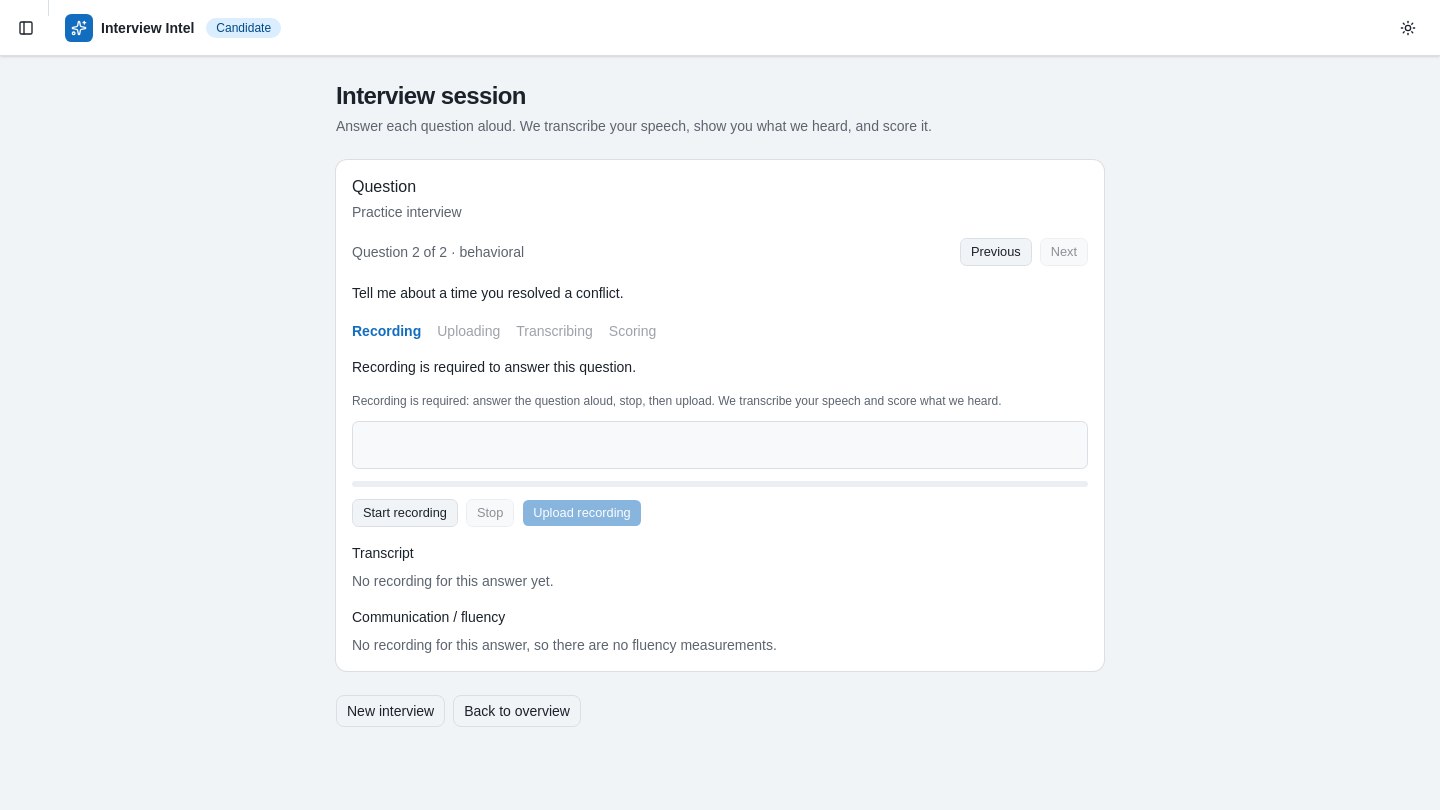
Scenario: a scored spoken answer shows What we heard, word timings, both fluency arms, and no text box
Check: the text "Tell me about a time you resolved a conflict." is shown, box x1=352 y1=285 x2=624 y2=301
Click the button with test id "prev-question" at (996, 252), box x1=960 y1=238 x2=1032 y2=266
(page scrolled)
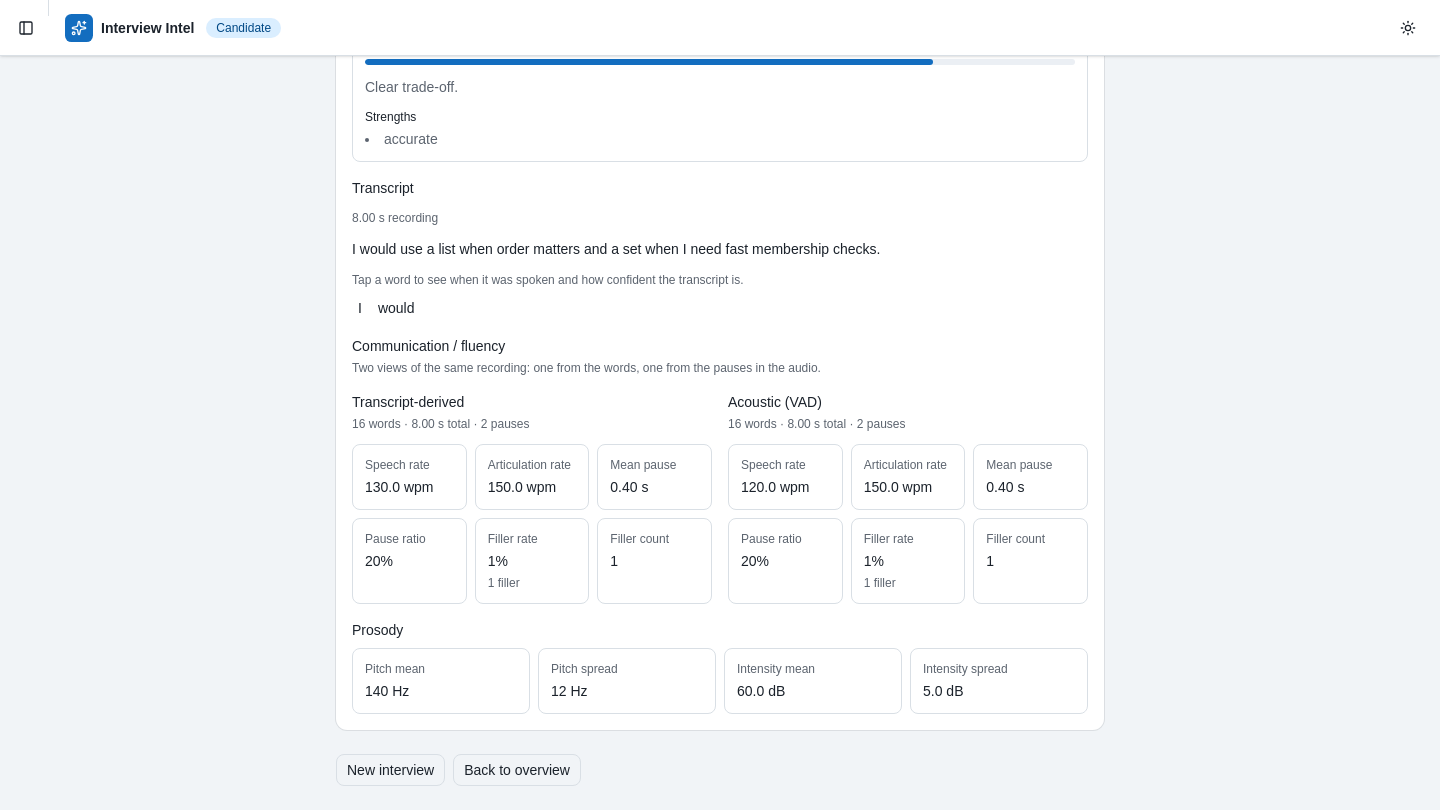
Check: the button with test id "transcript-word" showing "I" is shown, box x1=352 y1=296 x2=368 y2=320
Check: the element with test id "fluency-transcript" is shown, box x1=352 y1=392 x2=712 y2=604
Check: the element with test id "fluency-acoustic" is shown, box x1=728 y1=392 x2=1088 y2=604
